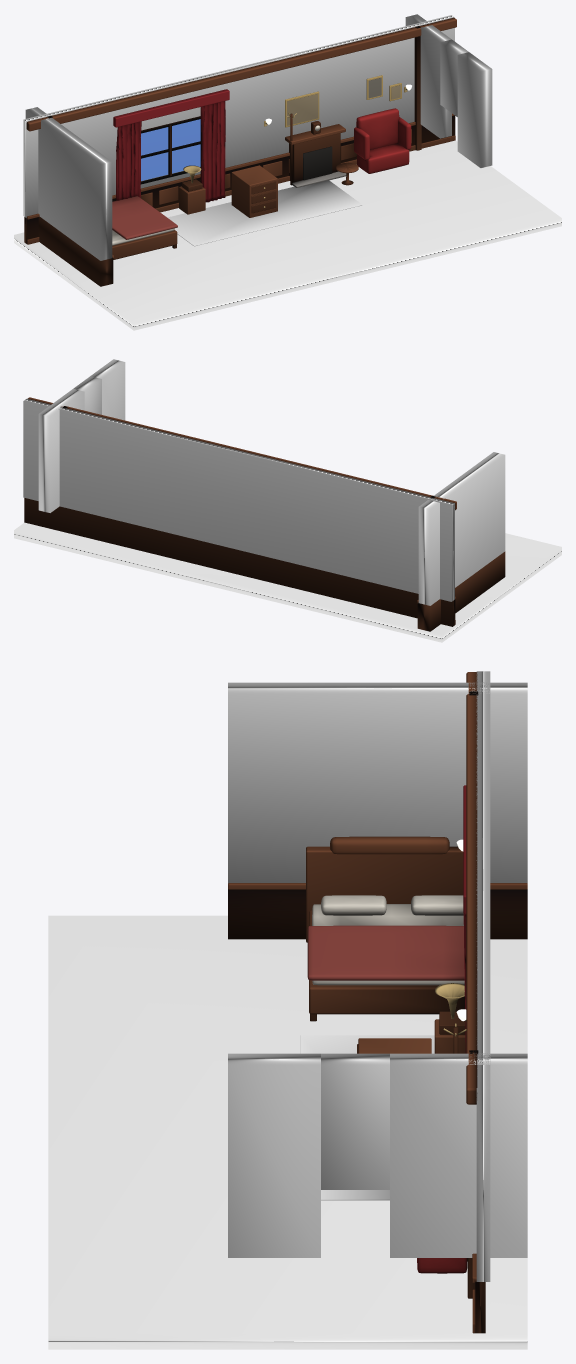
File: hotel.glb
3 views of the same model, one above another, from view 1: azimuth 30°, elevation 25°; view 2: azimuth 150°, elevation 25°; view 3: azimuth 270°, elevation 25° (orthographic). The views are drawn at different scales.
Parts seen in each view (by area): view 1: Floor, Wall • back damask, Wall • left damask, Rug, Crown moulding, Wall • right damask b, Wall • right damask a, Window • night, Drape • right, Wainscot • left, Bed • blanket, Drape • left (+16 smaller); view 2: Wall • back damask, Floor, Wainscot, Wall • left damask, Wall • right damask a, Wainscot • left, Wall • right damask b, Crown moulding, Wall • over door; view 3: Floor, Wall • left damask, Wall • right damask a, Wall • right damask b, Wall • over door, Wall • back damask, Bed • blanket, Bed • headboard, Wainscot • left, Crown moulding, Bed • frame, Bed • mattress (+5 smaller).
Boxes of the visible parts, x1=… form: Floor: x1=14, y1=140, x2=561, y2=330; Wall • back damask: x1=23, y1=15, x2=454, y2=217; Wall • left damask: x1=25, y1=107, x2=112, y2=260; Rug: x1=167, y1=180, x2=362, y2=246; Crown moulding: x1=26, y1=17, x2=456, y2=131; Wall • right damask b: x1=457, y1=52, x2=492, y2=167; Wall • right damask a: x1=405, y1=14, x2=451, y2=138; Window • night: x1=141, y1=119, x2=200, y2=180; Drape • right: x1=200, y1=101, x2=225, y2=202; Wainscot • left: x1=38, y1=216, x2=113, y2=286; Bed • blanket: x1=112, y1=196, x2=177, y2=239; Drape • left: x1=116, y1=121, x2=141, y2=200; Wall • back damask: x1=23, y1=399, x2=454, y2=601; Floor: x1=14, y1=522, x2=561, y2=642; Wainscot: x1=24, y1=498, x2=455, y2=626; Wall • left damask: x1=418, y1=452, x2=505, y2=605; Wall • right damask a: x1=38, y1=389, x2=84, y2=512; Wainscot • left: x1=417, y1=551, x2=505, y2=631; Wall • right damask b: x1=90, y1=359, x2=125, y2=420; Crown moulding: x1=27, y1=397, x2=456, y2=510; Wall • over door: x1=73, y1=376, x2=101, y2=414; Floor: x1=48, y1=915, x2=527, y2=1349; Wall • left damask: x1=228, y1=682, x2=527, y2=883; Wall • right damask a: x1=390, y1=1053, x2=527, y2=1257; Wall • right damask b: x1=228, y1=1053, x2=320, y2=1257; Wall • over door: x1=321, y1=1053, x2=389, y2=1189; Wall • back damask: x1=476, y1=671, x2=490, y2=1281; Bed • blanket: x1=307, y1=925, x2=464, y2=980; Bed • headboard: x1=306, y1=846, x2=463, y2=942; Wainscot • left: x1=228, y1=889, x2=527, y2=939; Crown moulding: x1=466, y1=672, x2=477, y2=1104; Bed • frame: x1=309, y1=910, x2=464, y2=1014; Bed • mattress: x1=312, y1=904, x2=464, y2=985.
Size of the model in its own units: 33 by 9.6 by 16.
